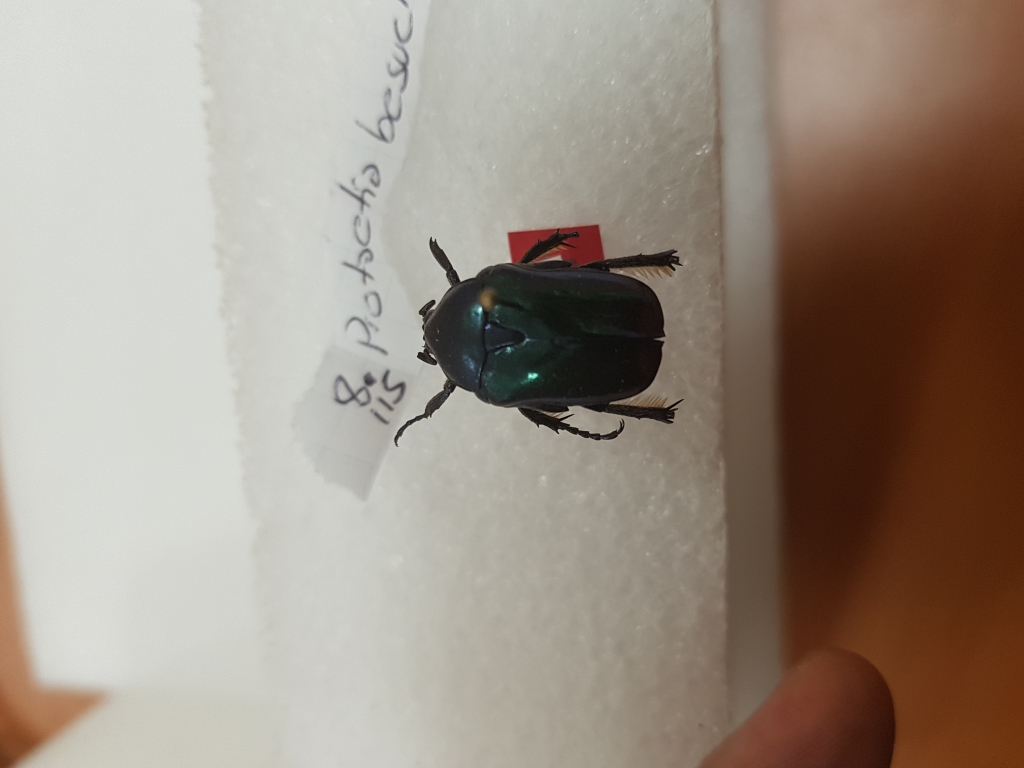Protaetia_besucheti: (376, 228, 696, 466)
